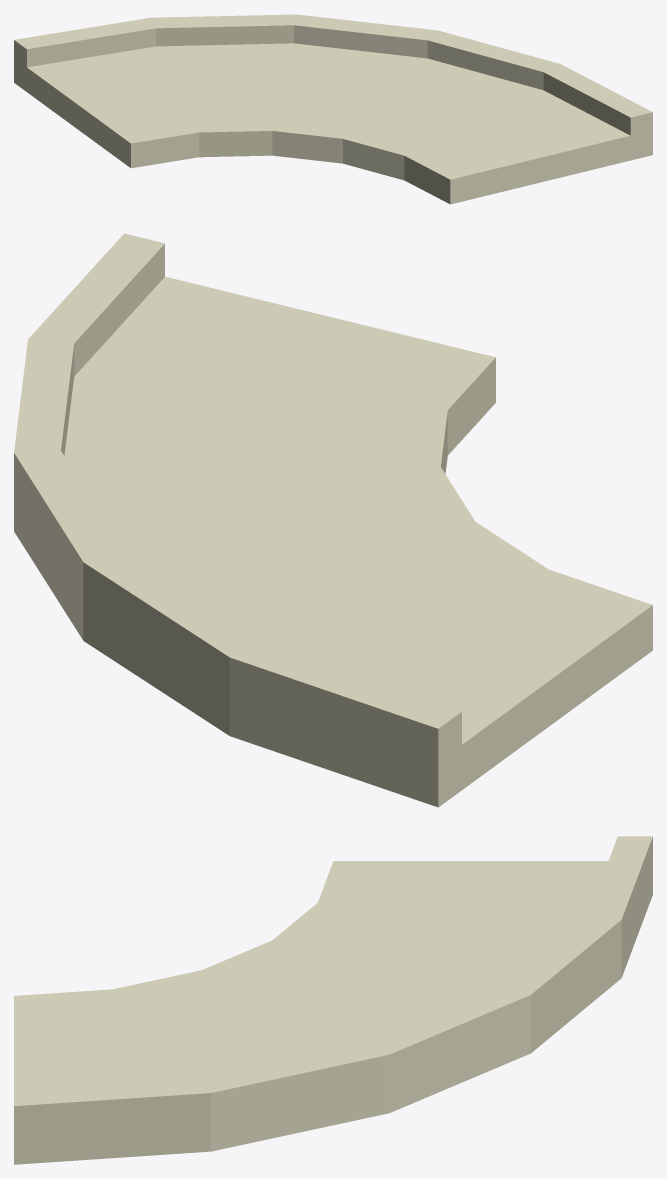
File: wujian09.FBX
3 renders of one model, top to bottom at view 1: azimuth 30°, elevation 25°; view 2: azimuth 150°, elevation 25°; view 3: azimuth 270°, elevation 25°, orthographic. The views are drawn at different scales.
Visible parts, largest first — view 1: Object027; view 2: Object027; view 3: Object027.
Part boxes in pixels (x1=…): Object027: x1=14, y1=14, x2=652, y2=204; Object027: x1=14, y1=233, x2=652, y2=807; Object027: x1=14, y1=836, x2=652, y2=1164.
Bounding box in the file's own units: 690 × 69.77 × 690.
